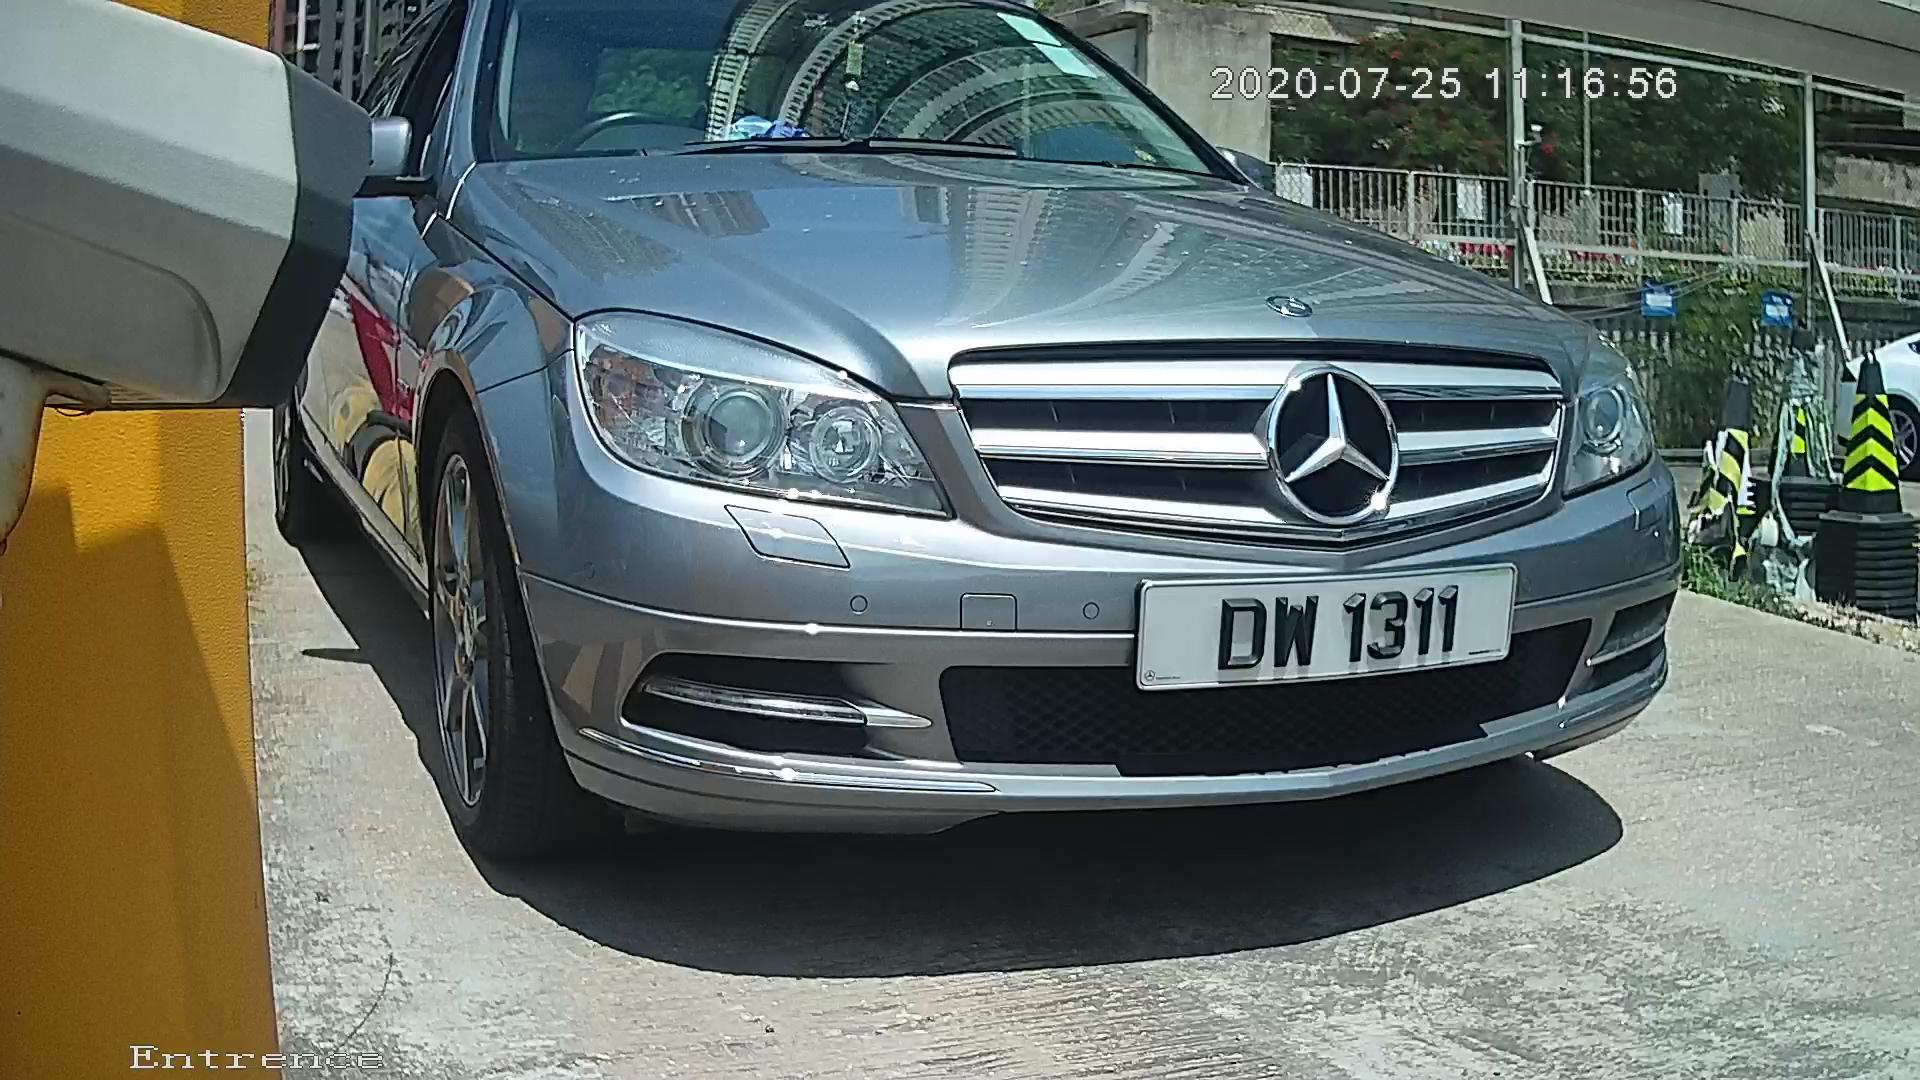Car: (181, 10, 1792, 921)
License Plate: (1123, 555, 1526, 700)
